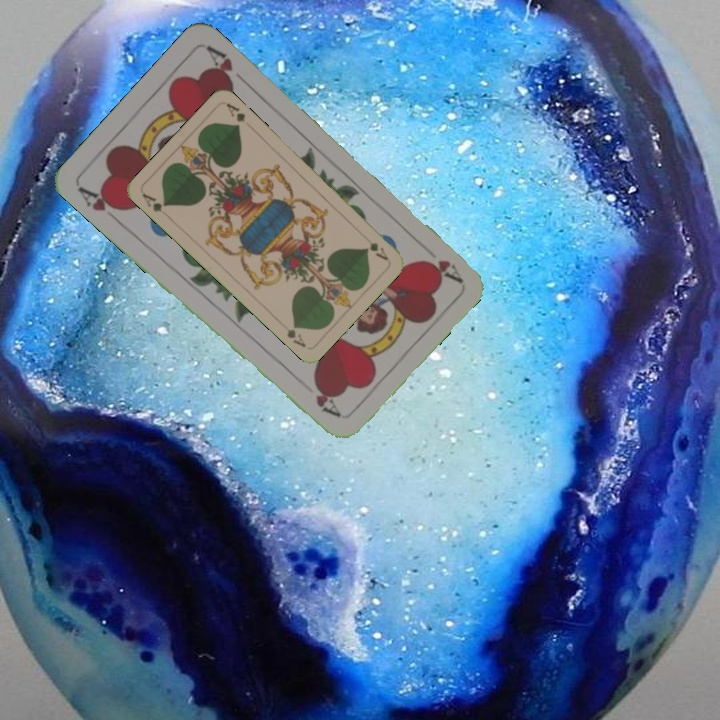GA: (358, 231, 391, 263), (138, 189, 169, 215)
HA: (74, 182, 127, 226), (419, 255, 464, 285)
